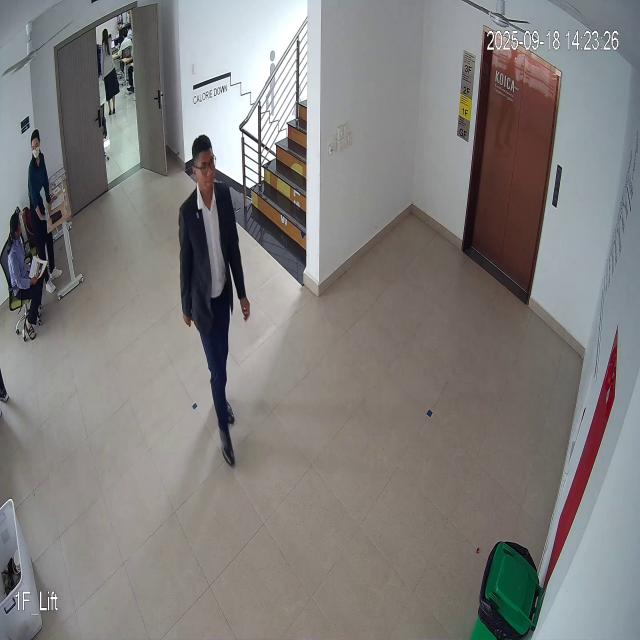face: (188, 133, 220, 198)
